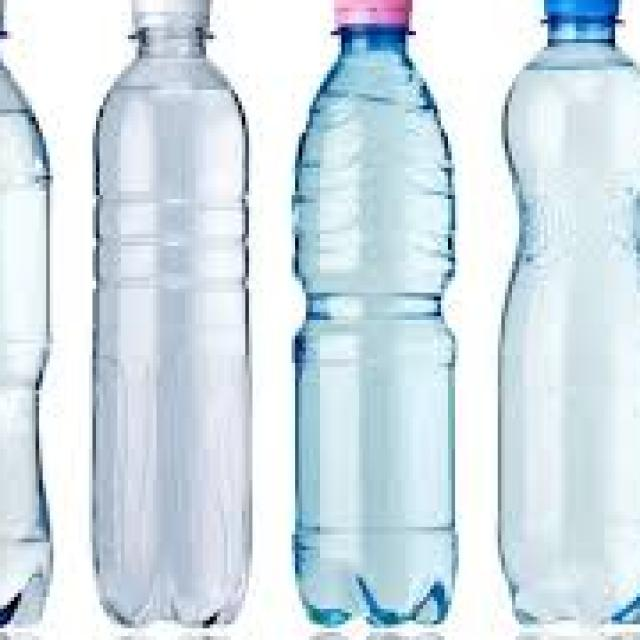organic: (280, 0, 473, 622), (83, 9, 257, 625), (491, 5, 634, 622)
